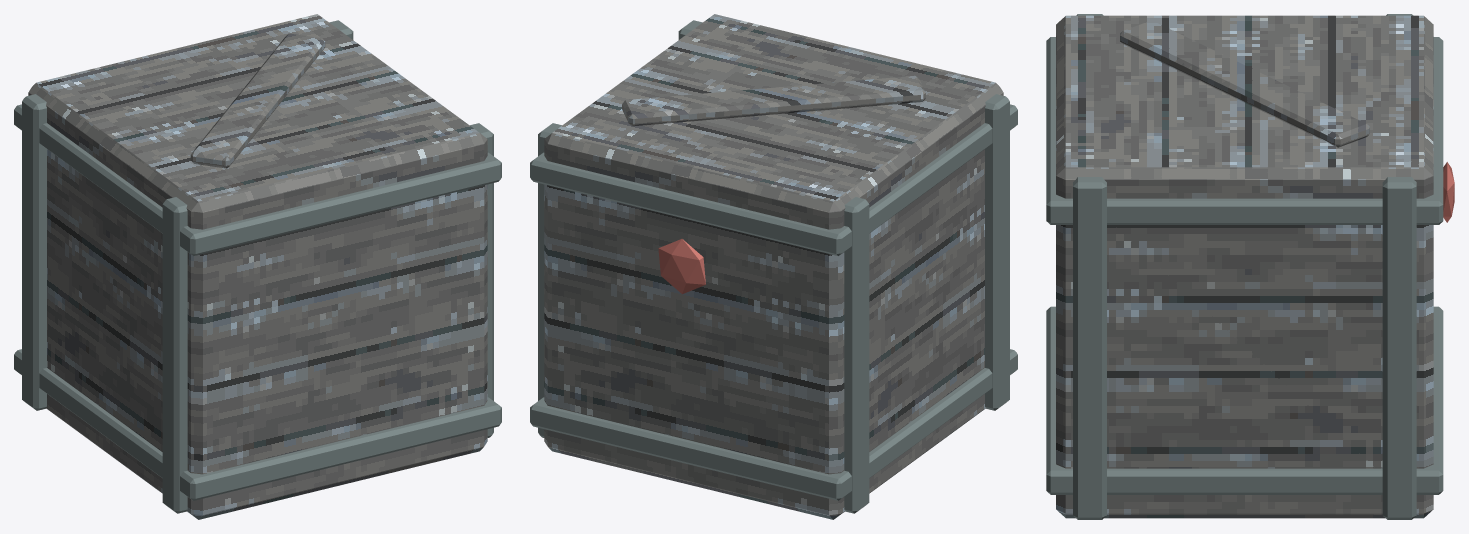
The model's file is caixa.fbx.
The picture shows the model from 3 angles, left to right: view 1: azimuth 30°, elevation 25°; view 2: azimuth 150°, elevation 25°; view 3: azimuth 270°, elevation 25°; orthographic projection. The views are drawn at different scales.
Visible parts, largest first — view 1: neve_caixa; view 2: neve_caixa; view 3: neve_caixa.
Boxes of the visible parts, x1,y1,x2,y2 form: neve_caixa: (14,14,501,519); neve_caixa: (530,14,1017,519); neve_caixa: (1046,14,1454,519).
Size of the model in its own units: 84.2 by 83.2 by 84.33.
3 materials, 1 textured.
